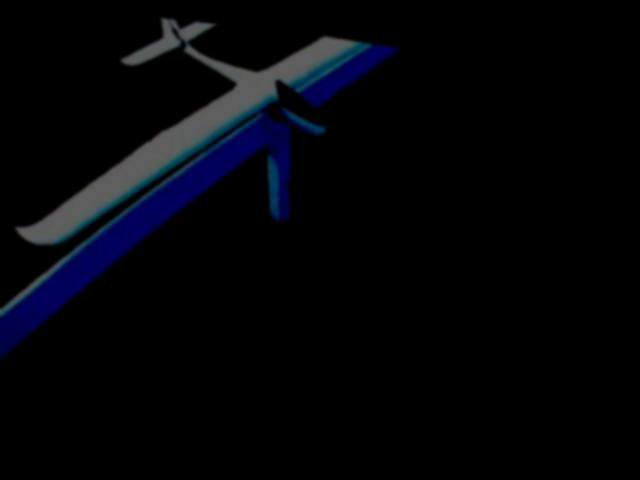iha: (9, 2, 398, 296)
